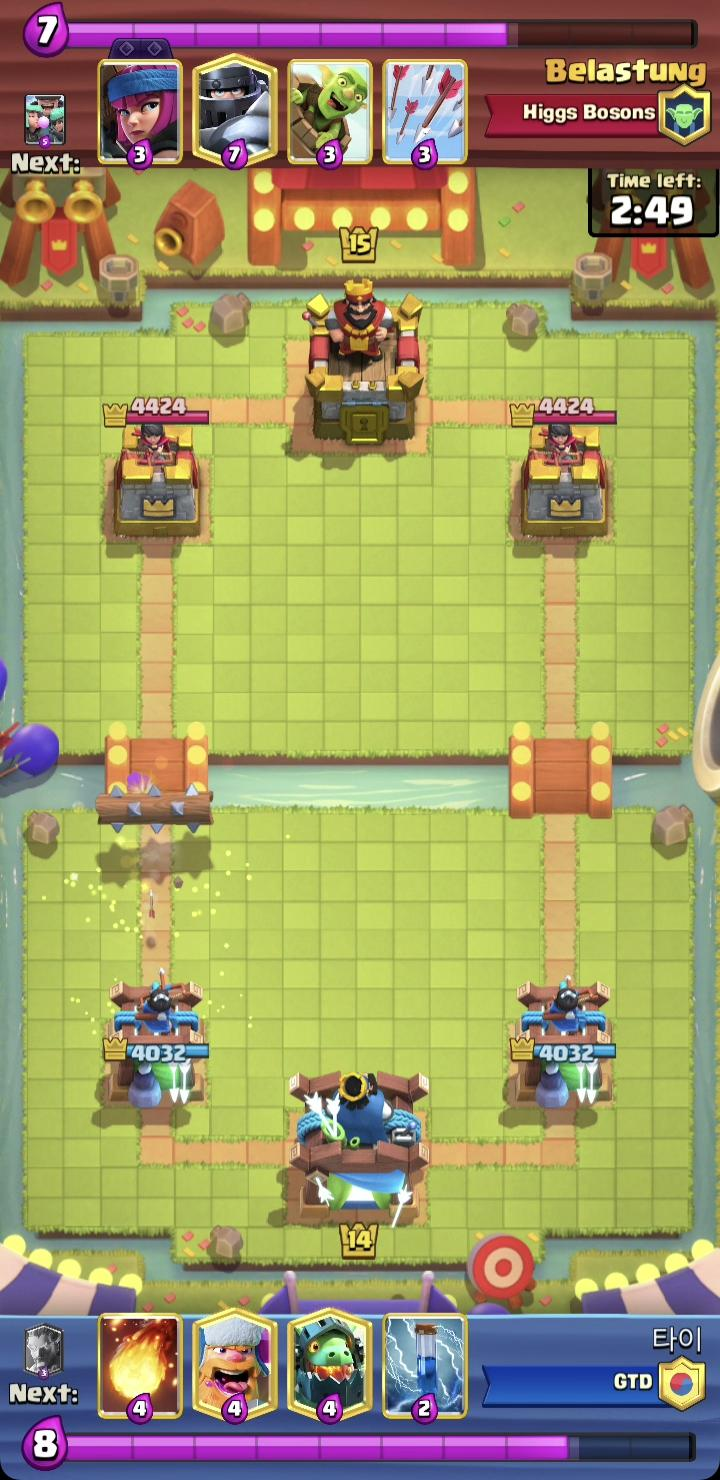ally_log: (95, 781, 217, 833)
